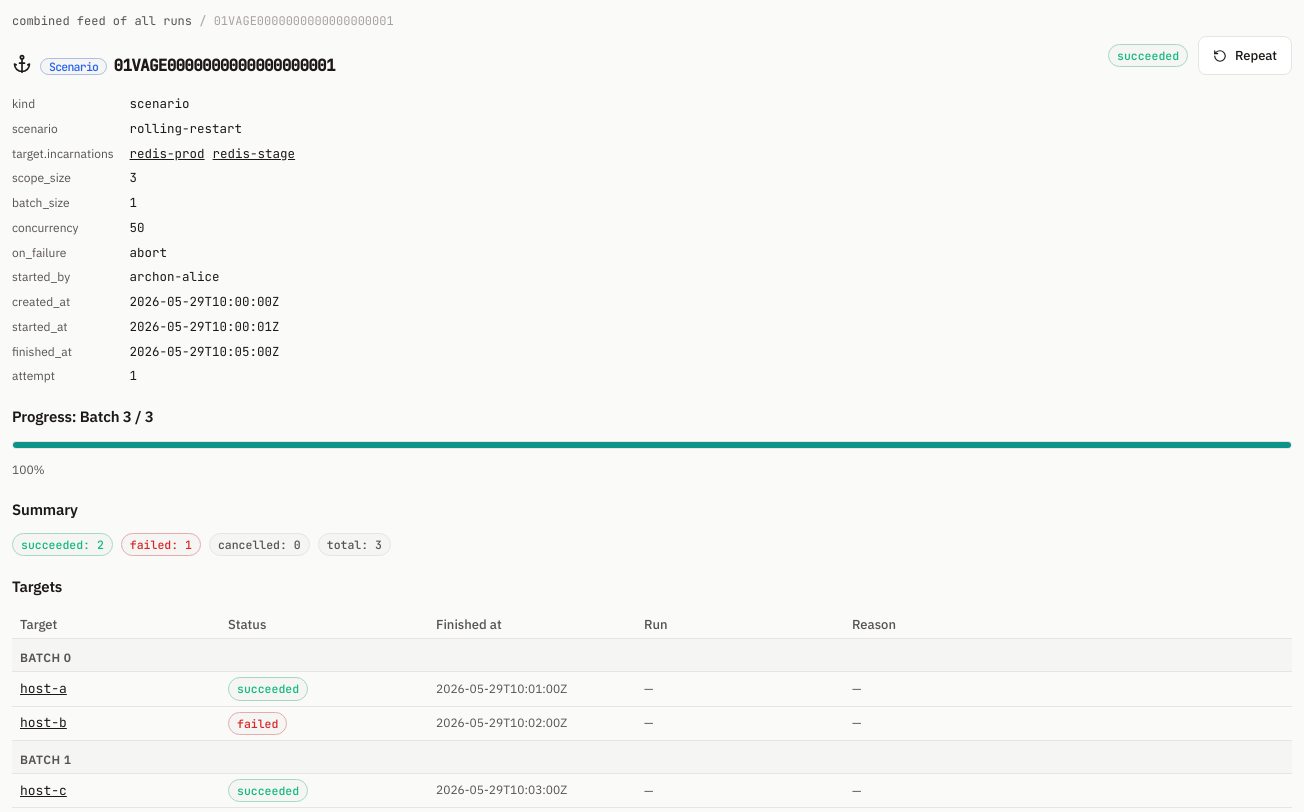
Test case: VoyageDetail › clicking the same filter again → reset (all targets visible)
The image size is (1304, 812).
expect the element with test id "voyage-summary-counts" is shown: met, box [12,533,391,556]
Click 1: filter
Click the element showing "failed: 1" at (161, 545), box [121,533,201,556]
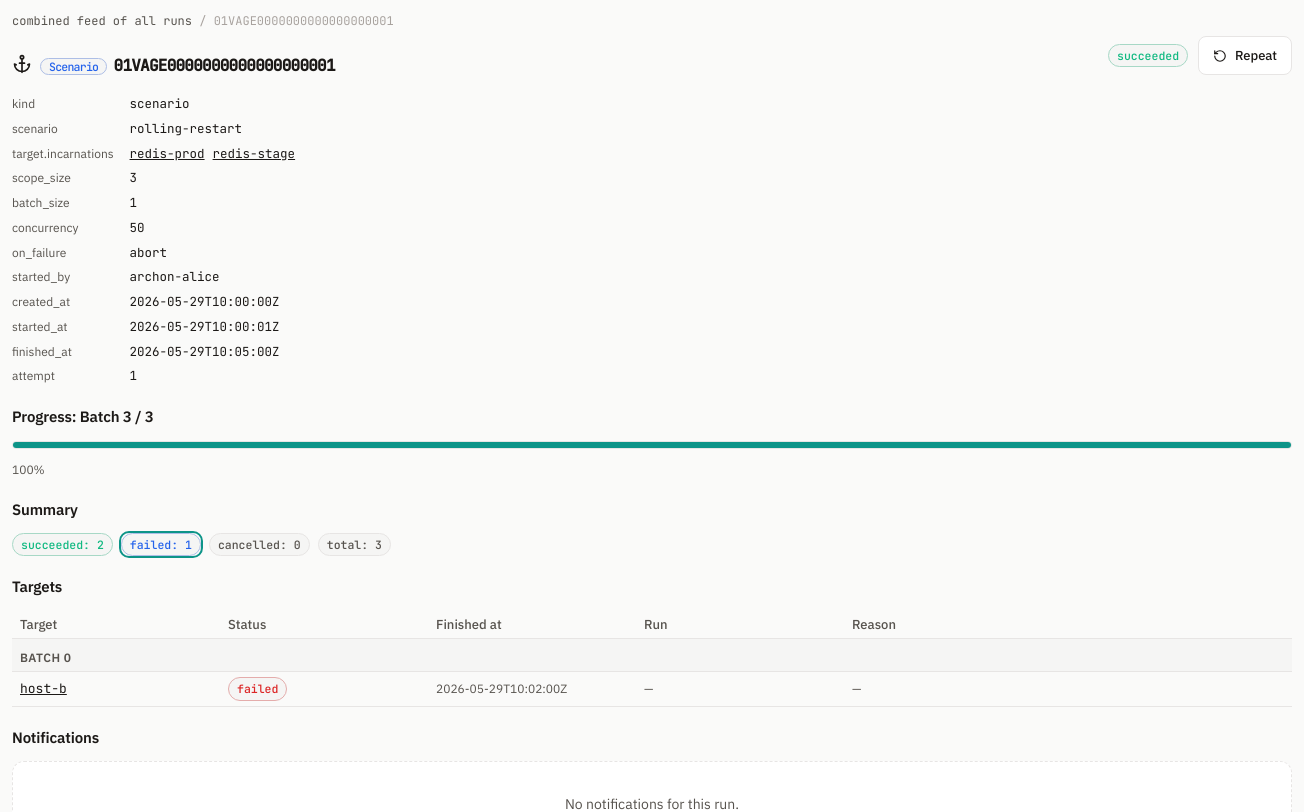
expect the link "host-a" is gone: met
Click the element showing "failed: 1" at (161, 545), box [121,533,201,556]
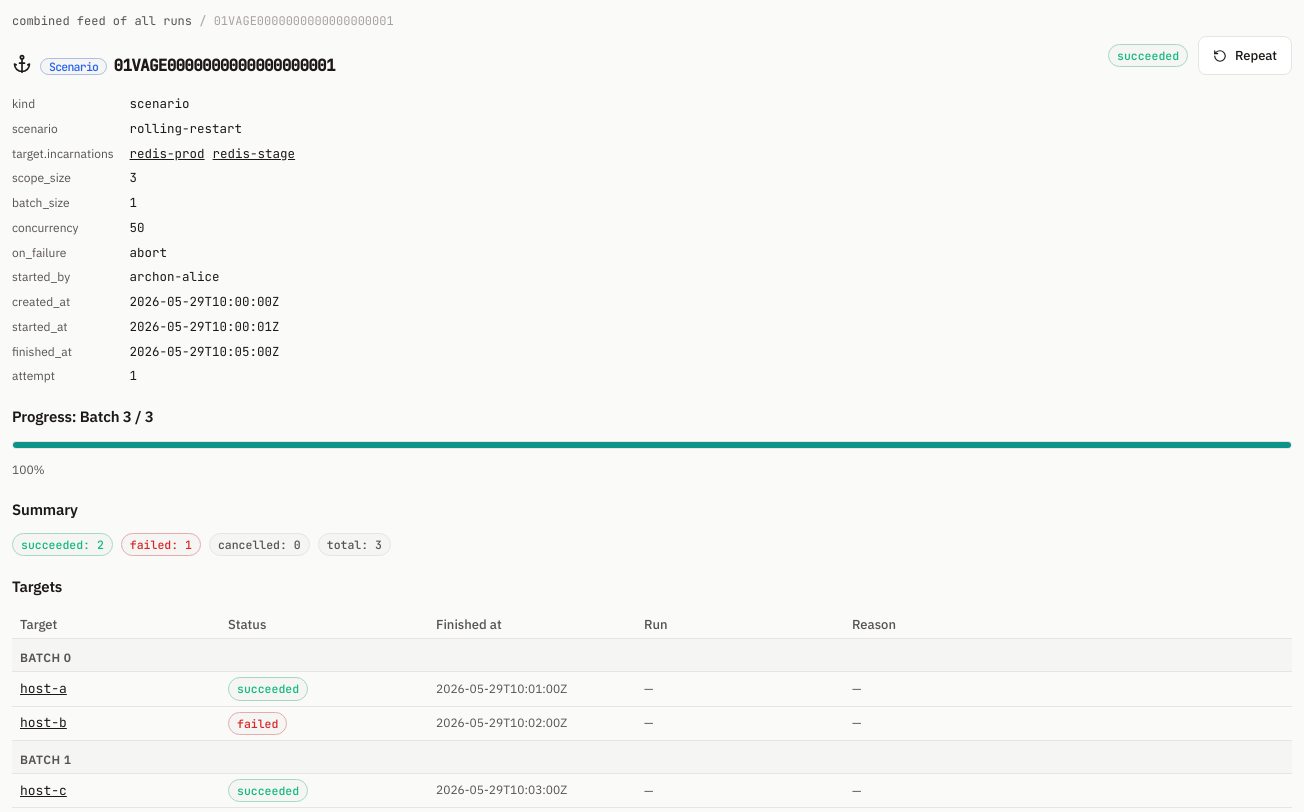
expect the link "host-b" is shown: met, box [20,714,67,731]
expect the link "host-a" is shown: met, box [20,680,67,697]
